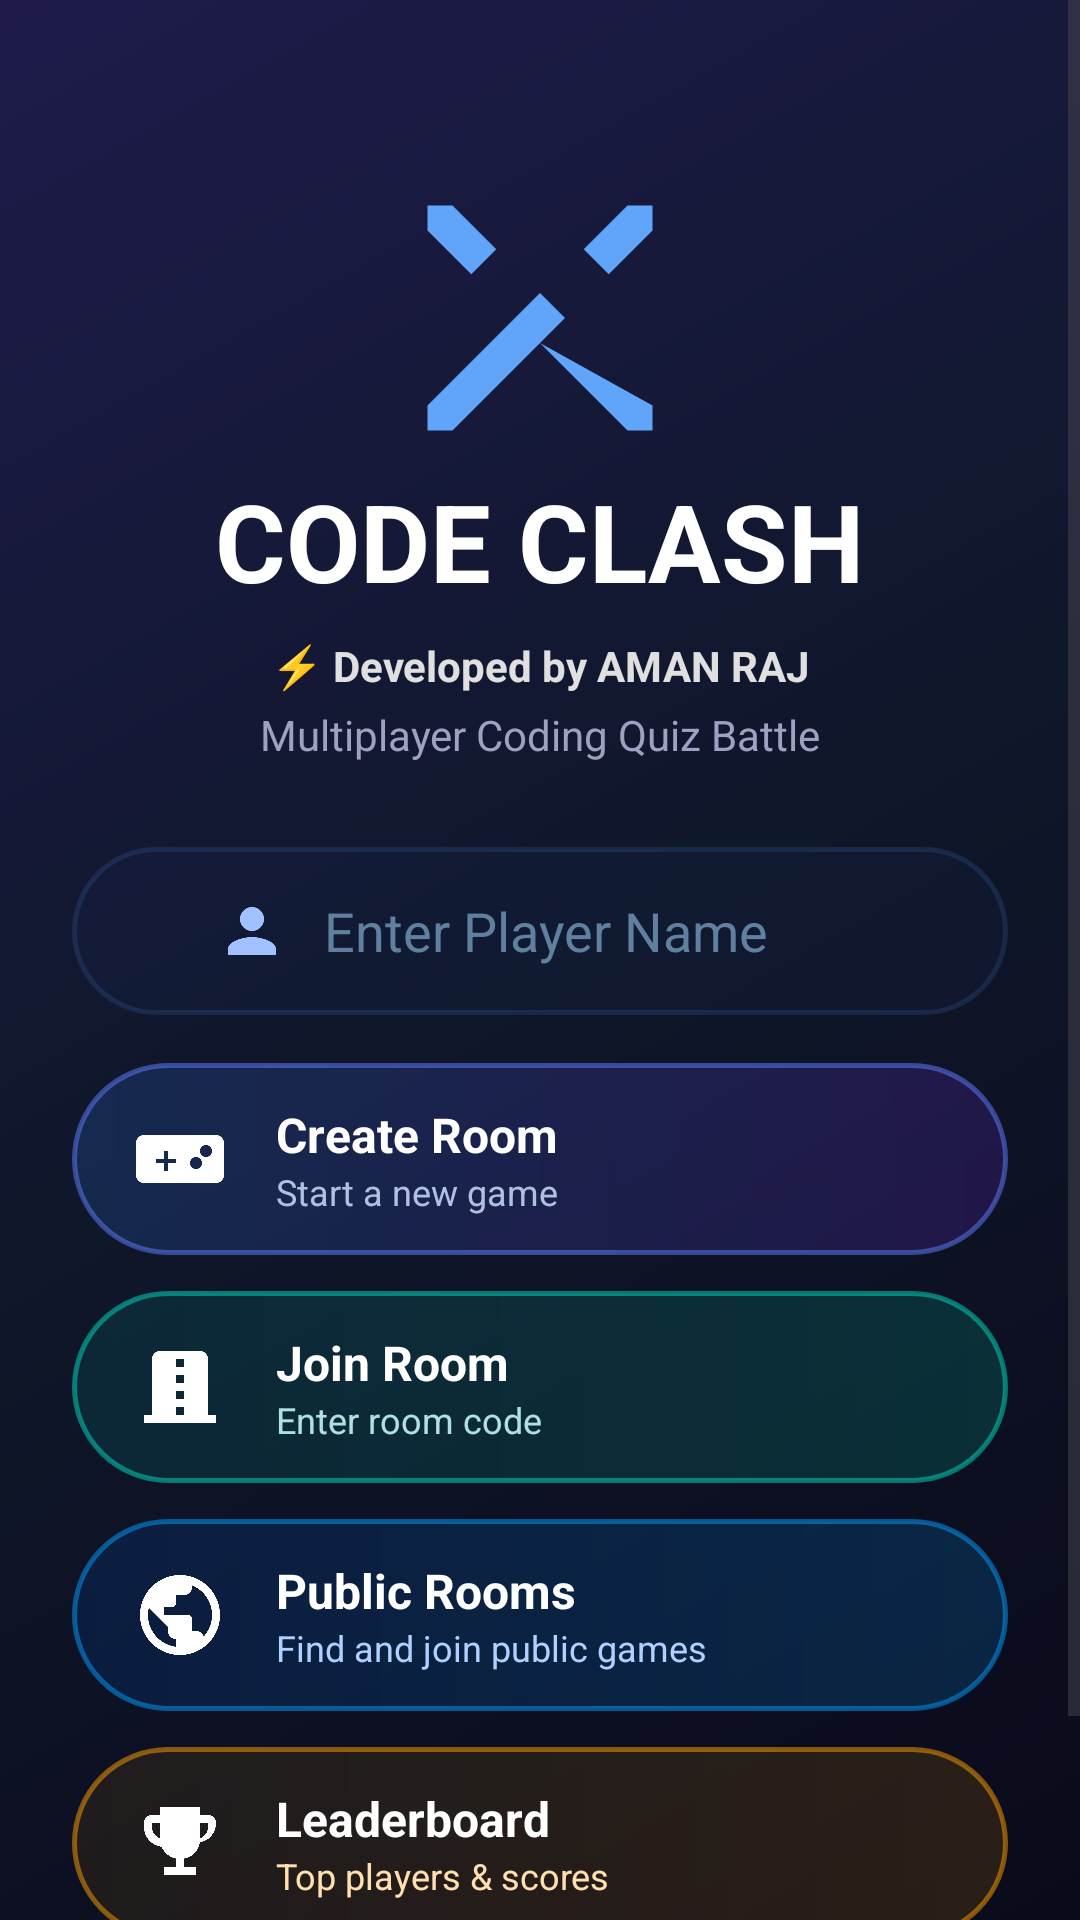

Icons on this 1080px x 1920px Android screen, each with its box as {"x1": x1, "y1": y1, "x2": x2, "y2": y2}:
door: {"x1": 144, "y1": 1351, "x2": 216, "y2": 1423}
gamepad: {"x1": 136, "y1": 1135, "x2": 224, "y2": 1183}
globe: {"x1": 140, "y1": 1575, "x2": 220, "y2": 1655}
trophy: {"x1": 144, "y1": 1807, "x2": 216, "y2": 1875}
